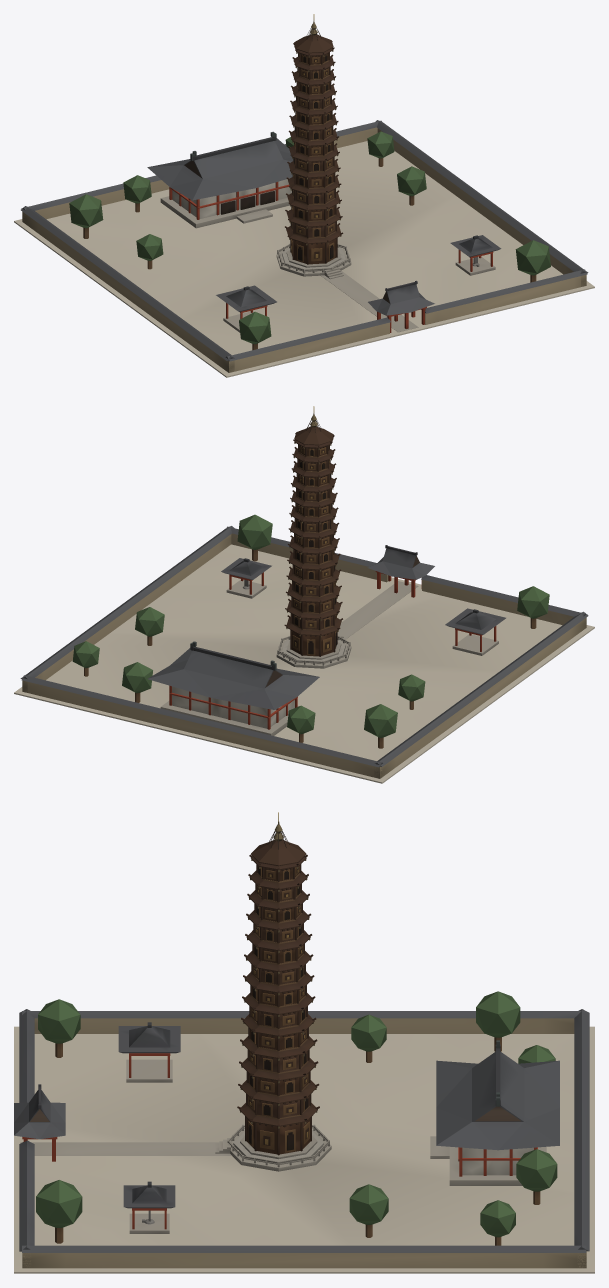
File: iron-pagoda.glb
The picture shows the model from 3 angles, top to bottom: view 1: azimuth 30°, elevation 25°; view 2: azimuth 150°, elevation 25°; view 3: azimuth 270°, elevation 25°; orthographic projection. The views are drawn at different scales.
Visible parts, largest first — view 1: p0_base, p2_trees, p1_halls; view 2: p0_base, p2_trees, p1_halls; view 3: p0_base, p2_trees, p1_halls.
Boxes of the visible parts, x1=… form: p0_base: x1=14, y1=120, x2=594, y2=377; p2_trees: x1=69, y1=14, x2=550, y2=350; p1_halls: x1=160, y1=159, x2=501, y2=332; p0_base: x1=14, y1=526, x2=594, y2=783; p2_trees: x1=72, y1=406, x2=549, y2=748; p1_halls: x1=160, y1=545, x2=505, y2=735; p0_base: x1=14, y1=1009, x2=594, y2=1273; p2_trees: x1=36, y1=812, x2=559, y2=1245; p1_halls: x1=14, y1=1014, x2=546, y2=1233.
Bounding box in the file's own units: 90 × 57.91 × 90.
